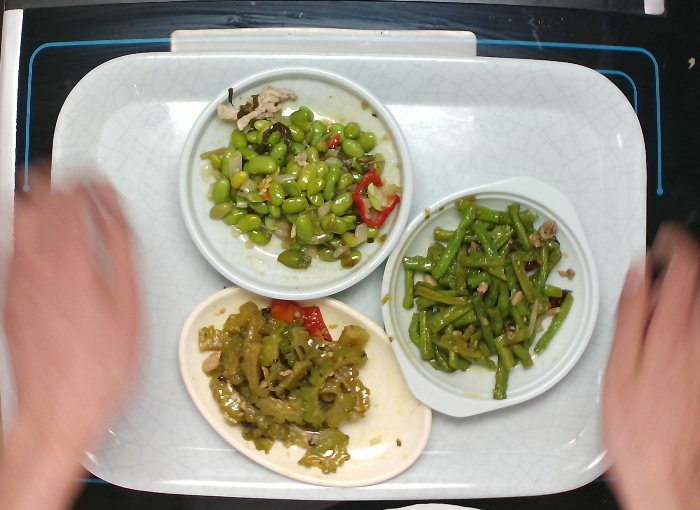JYsf-Shuang_Er_Pan: (380, 171, 603, 421)
JYsf-Tuo_Yuan_Wan: (175, 284, 441, 490)
JYsf-Xiao_Yuan_Pan: (172, 62, 417, 304)
